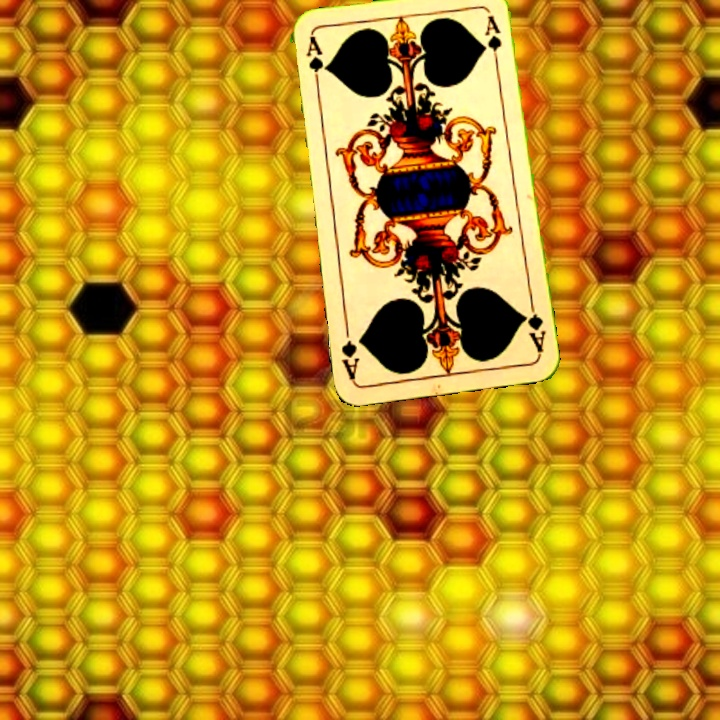GA: (518, 297, 548, 356), (302, 33, 327, 93)
